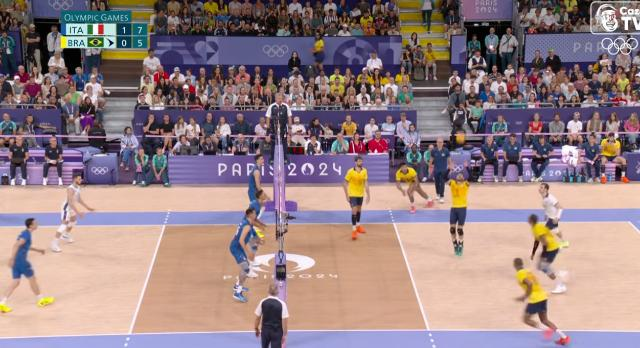Levantador: (6, 217, 40, 293), (446, 161, 469, 256)
Libero: (52, 175, 84, 249), (538, 182, 564, 234)
bola: (456, 133, 466, 147)
